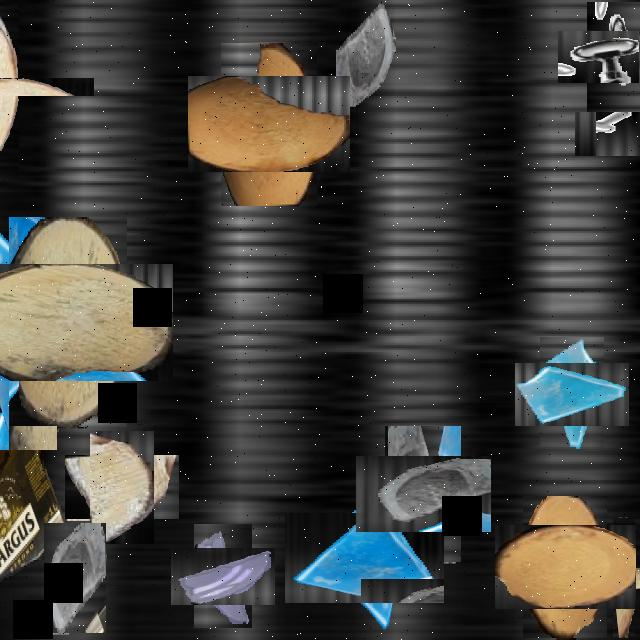glass: (302, 496, 426, 620), (370, 441, 476, 547), (0, 220, 67, 384), (528, 350, 616, 439), (44, 523, 106, 633), (182, 536, 264, 616), (0, 338, 57, 452), (336, 2, 396, 108)
metal: (572, 16, 640, 97), (585, 100, 640, 166)
plastic: (0, 398, 65, 590)
wood: (0, 240, 150, 404), (204, 60, 334, 189), (508, 511, 622, 624), (77, 442, 166, 532), (0, 39, 56, 134), (588, 542, 640, 613)
